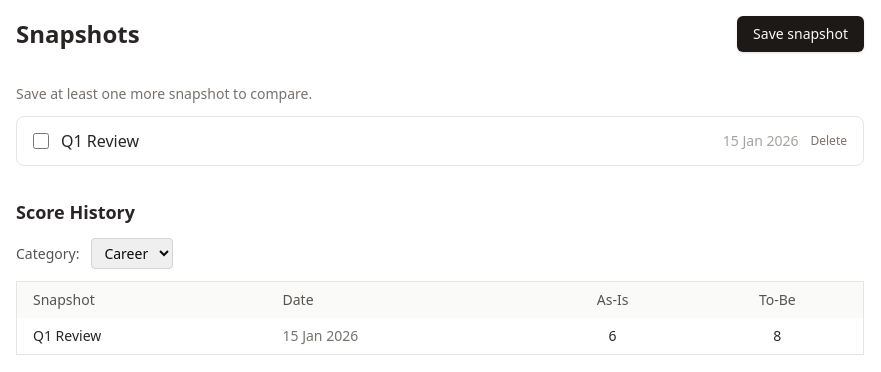
Test: SnapshotsPage › snapshot delete › clicking Delete shows inline confirmation
Step 1. Click the button with aria-label "delete snapshot" → (829, 141), box [810,133,847,149]
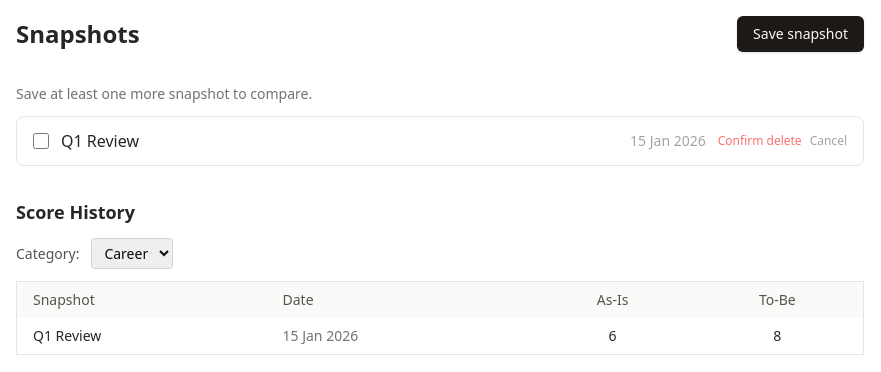
Result: the button "Confirm delete" is shown at [718,133,802,149]
Result: the button "Cancel" is shown at [810,133,847,149]
